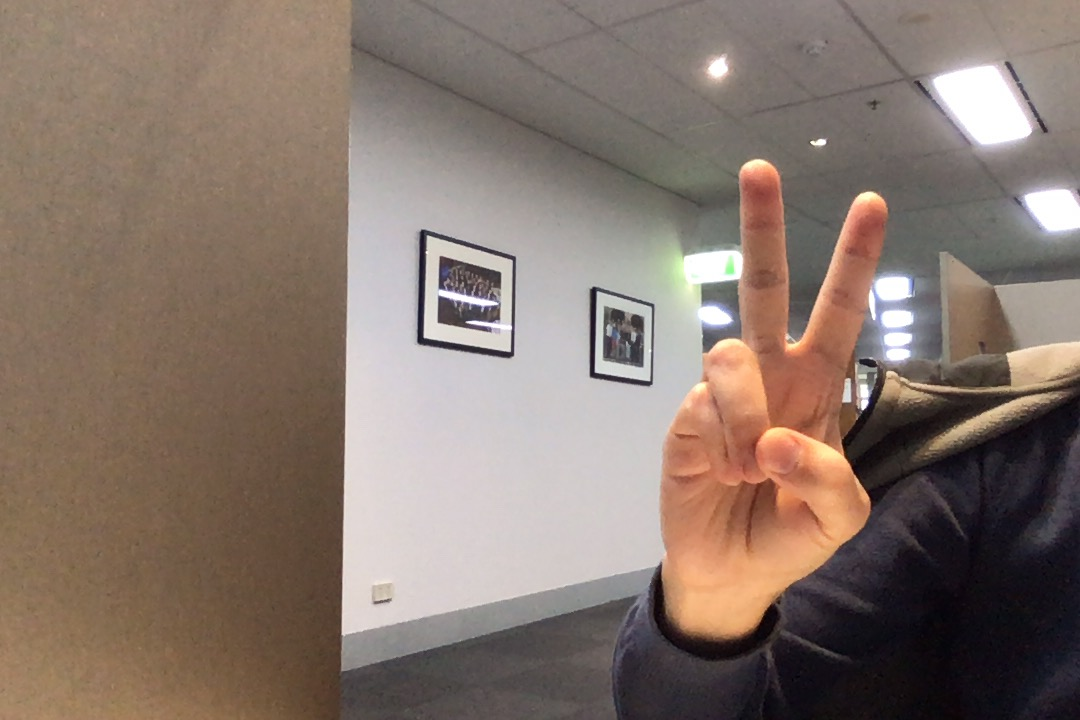peacesign: (641, 143, 905, 634)
